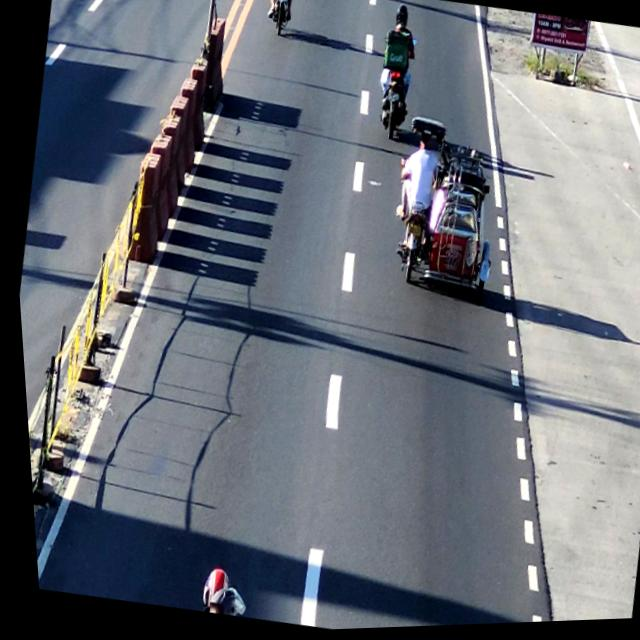License-Plate: (401, 224, 420, 241), (274, 0, 290, 5)
Motorcycle: (365, 4, 428, 146), (184, 567, 242, 619), (257, 0, 302, 39)
Tricycle: (375, 112, 509, 307)
